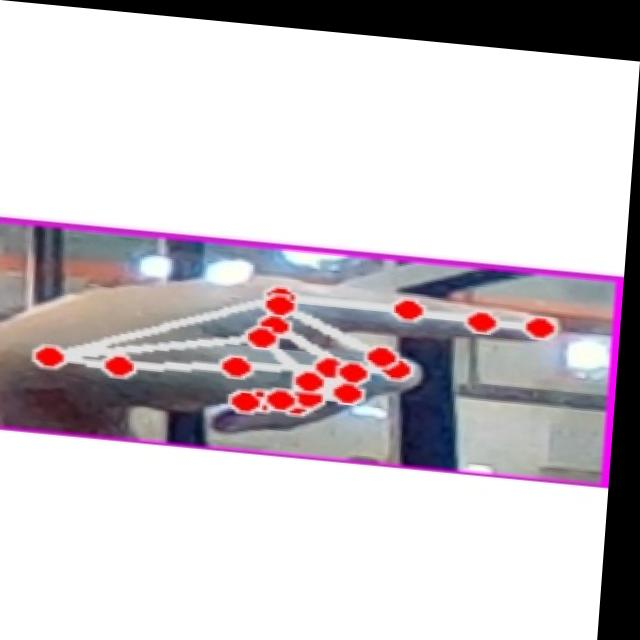G: (0, 251, 575, 464)
